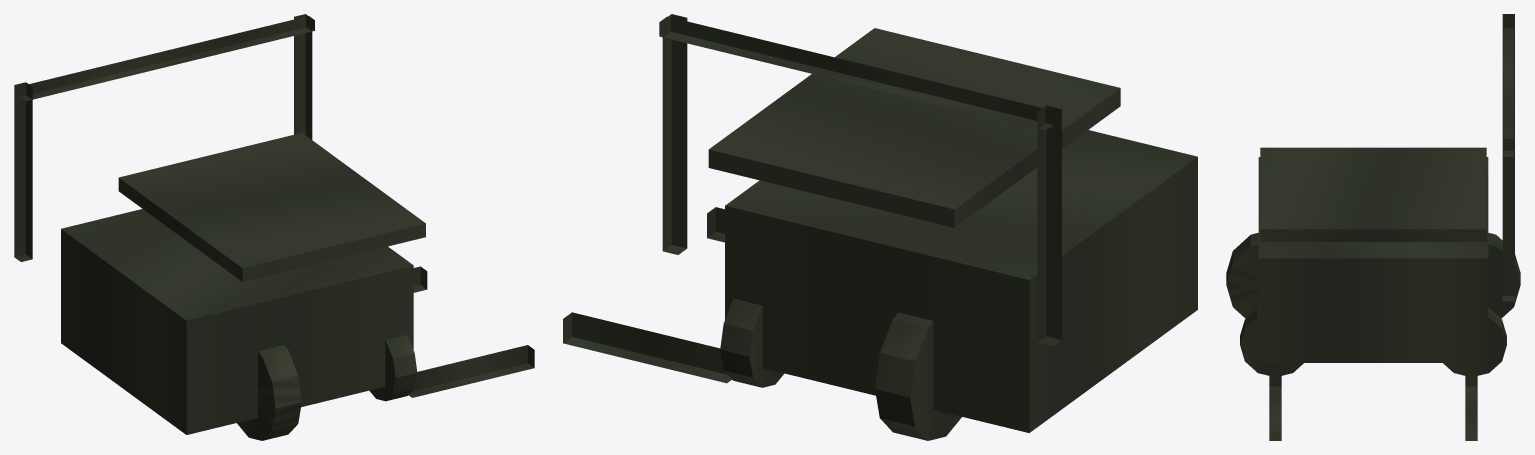
Rendered from veh_forklift_industrial_a.glb.
3 views of the same model, side by side, from view 1: azimuth 30°, elevation 25°; view 2: azimuth 150°, elevation 25°; view 3: azimuth 270°, elevation 25° (orthographic). The views are drawn at different scales.
Visible parts, largest first — view 1: veh_forklift_industrial_a; view 2: veh_forklift_industrial_a; view 3: veh_forklift_industrial_a.
Boxes of the visible parts, x1,y1,x2,y2 form: veh_forklift_industrial_a: (14, 14, 534, 440); veh_forklift_industrial_a: (563, 14, 1197, 440); veh_forklift_industrial_a: (1226, 14, 1520, 440).
Size of the model in its own units: 2.65 by 1.85 by 1.92.
1 material, 1 textured.
